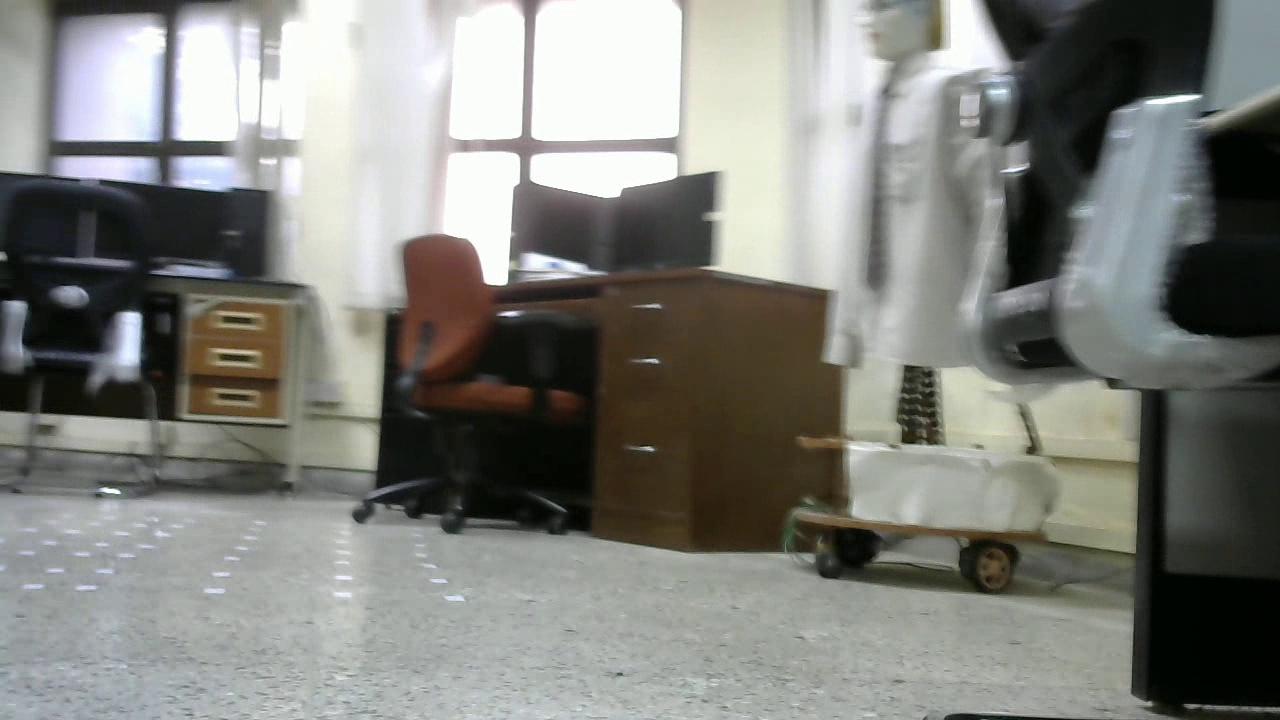chair: (351, 234, 601, 535), (1, 179, 175, 497)
